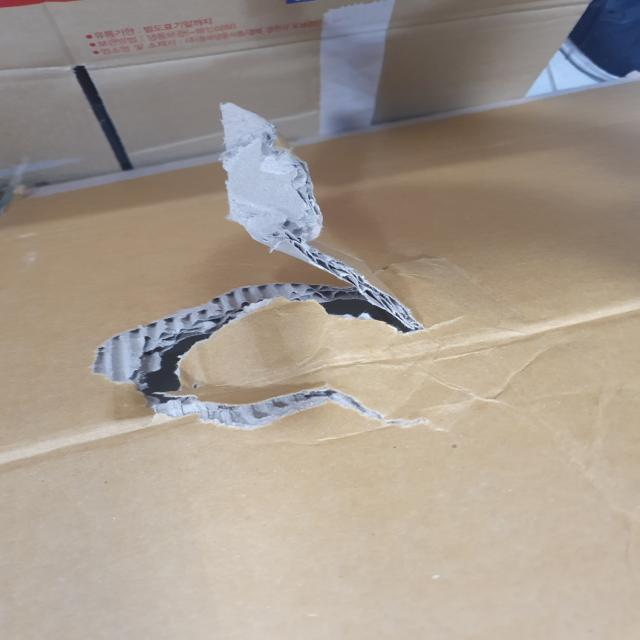hole: (106, 273, 408, 428)
